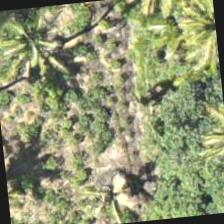Kelapa_Sawit: (0, 3, 85, 97), (65, 144, 164, 223)
